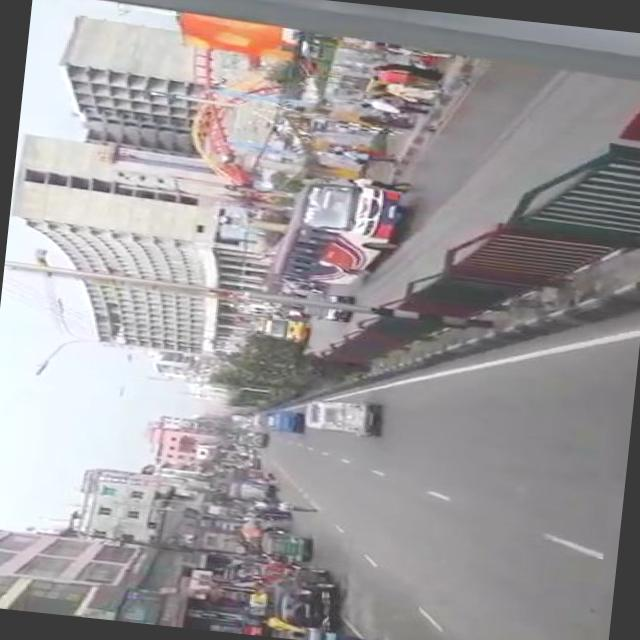bus: (270, 176, 400, 291), (224, 465, 266, 501), (256, 316, 306, 344), (228, 428, 264, 448)
car: (268, 563, 338, 632), (299, 292, 346, 323)
motorcycle: (298, 396, 374, 436), (258, 530, 306, 563)
truck: (257, 408, 301, 436)
